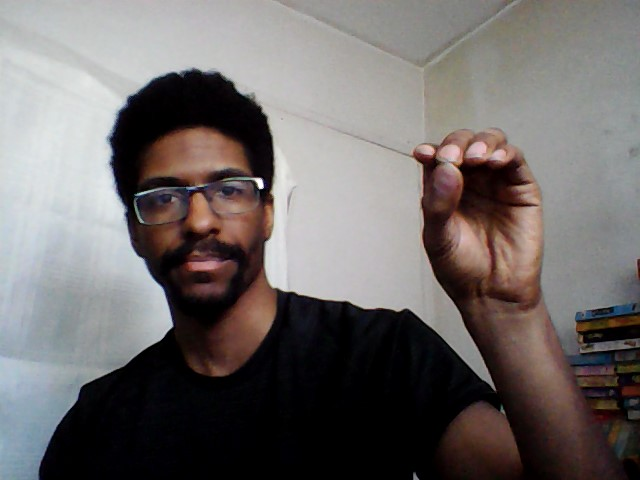o: (407, 123, 552, 303)
